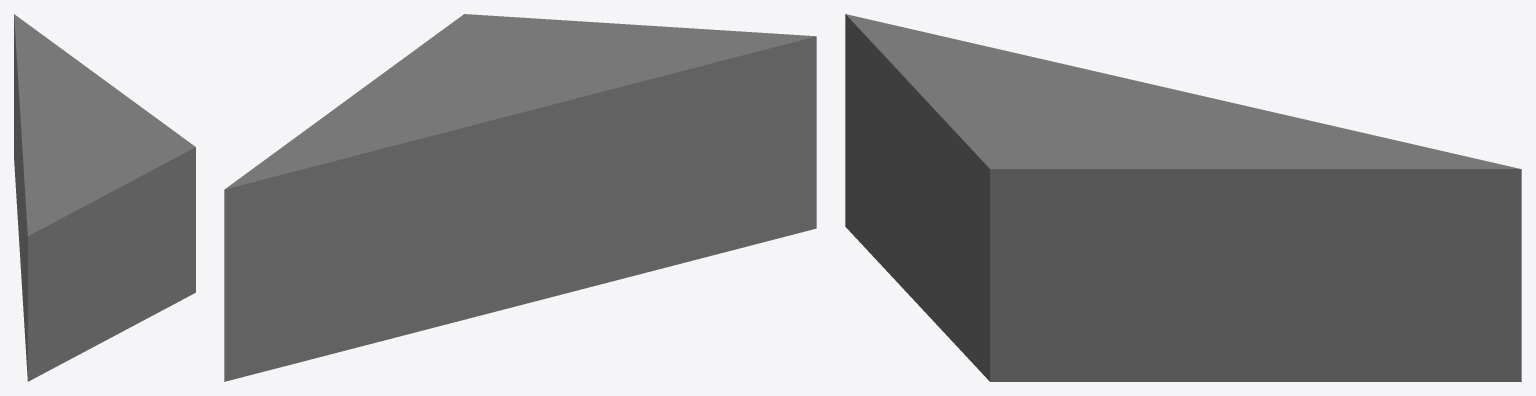
Rendered from base_destroyed_5.glb.
3 renders of one model, left to right at view 1: azimuth 30°, elevation 25°; view 2: azimuth 150°, elevation 25°; view 3: azimuth 270°, elevation 25°, orthographic. The views are drawn at different scales.
Visible parts, largest first — view 1: base_destroyed_5; view 2: base_destroyed_5; view 3: base_destroyed_5.
Boxes of the visible parts, box(x1,y1,x2,y2) form: base_destroyed_5: box(14, 14, 195, 381); base_destroyed_5: box(224, 14, 816, 381); base_destroyed_5: box(845, 14, 1521, 381).
Bounding box in the file's own units: 0.3126 × 0.2 × 0.5757.
1 material, 1 textured.
